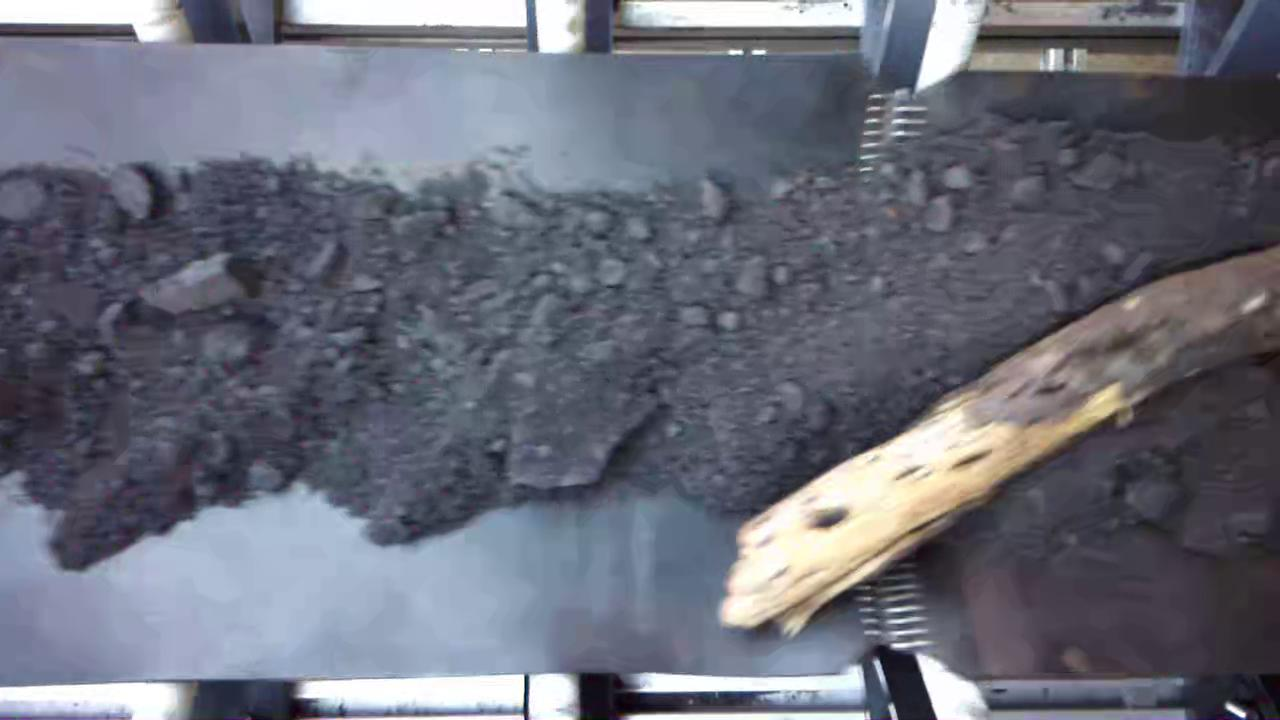conveyor: (3, 77, 1280, 673)
